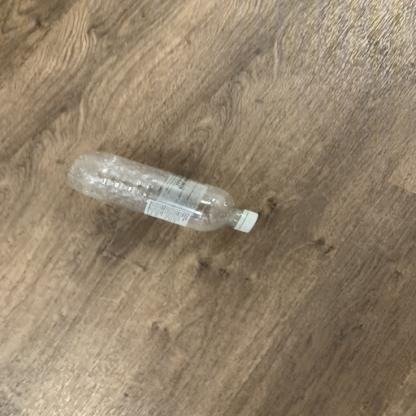trash: (67, 152, 262, 236)
